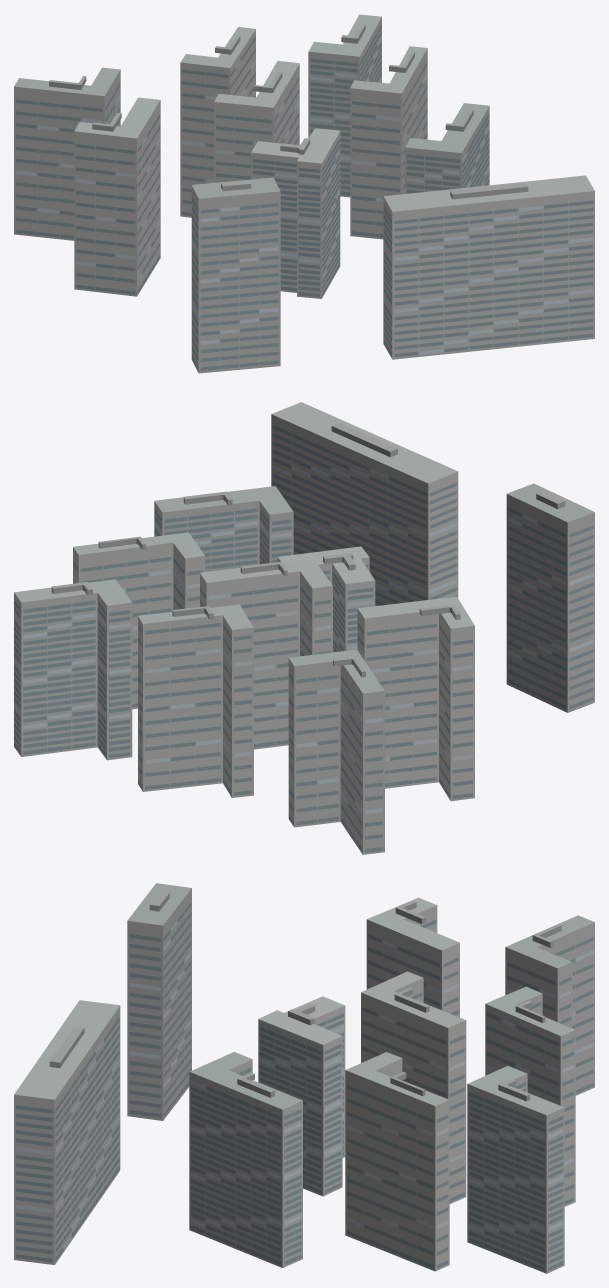
File: apt-a10024042.glb
The picture shows the model from 3 angles, top to bottom: view 1: azimuth 30°, elevation 25°; view 2: azimuth 150°, elevation 25°; view 3: azimuth 270°, elevation 25°; orthographic projection. The views are drawn at different scales.
Visible parts, largest first — view 1: apt-a10024042; view 2: apt-a10024042; view 3: apt-a10024042.
Part boxes in pixels (x1=…): apt-a10024042: x1=14, y1=14, x2=594, y2=373; apt-a10024042: x1=14, y1=402, x2=594, y2=854; apt-a10024042: x1=14, y1=883, x2=594, y2=1273.
Bounding box in the file's own units: 185 × 87 × 228.
